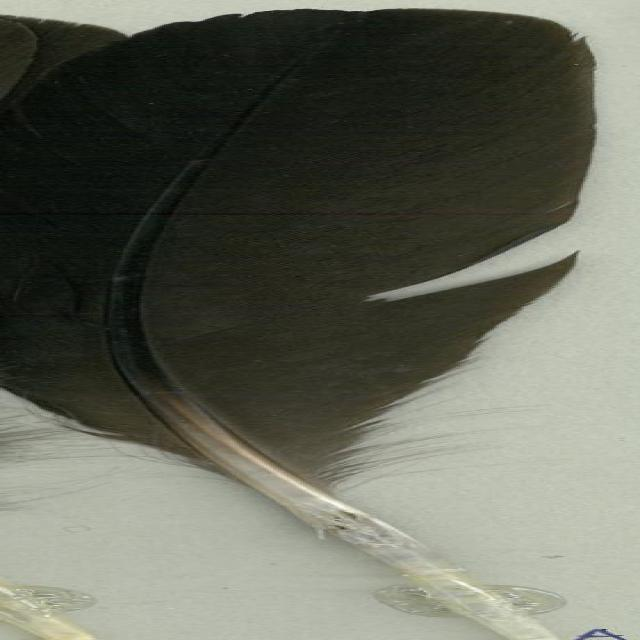feather: (0, 8, 629, 640)
